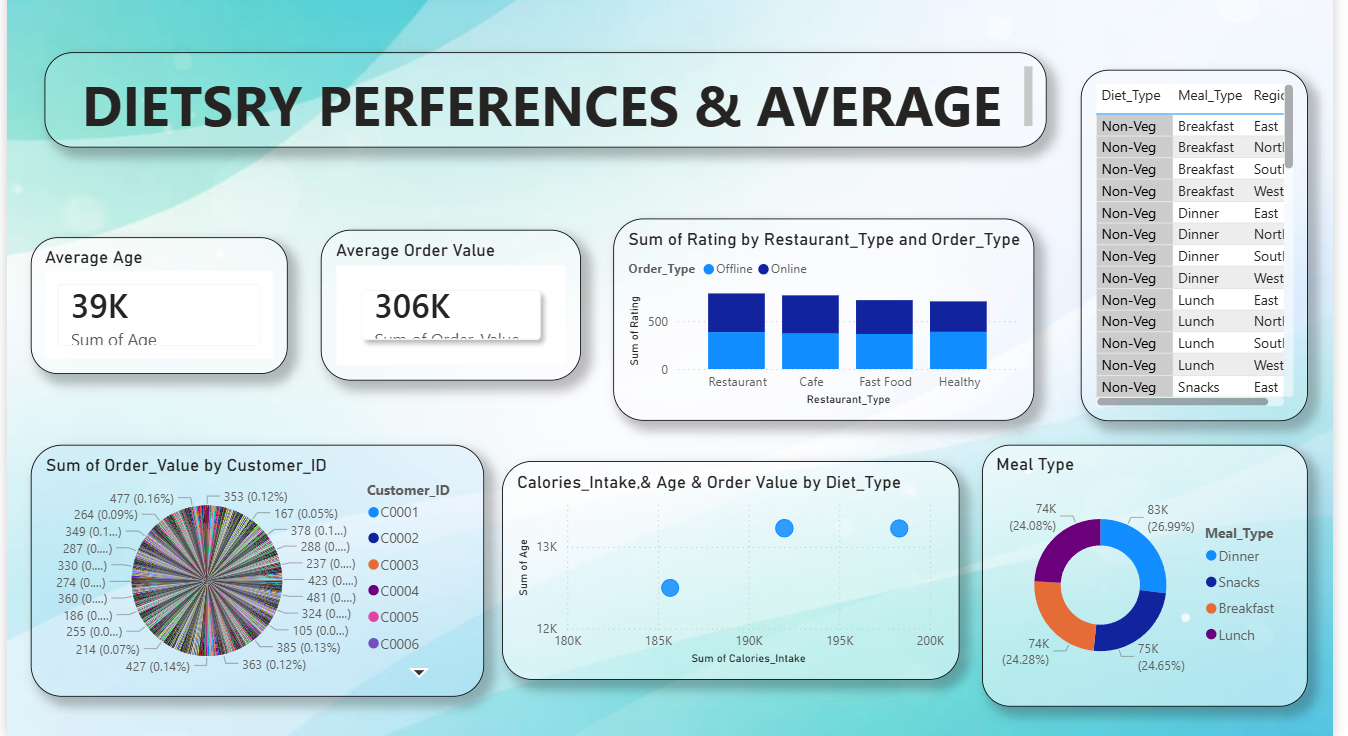

This screenshot's page, from the dashboard's own definition file:
{"tool":"powerbi","page":{"name":"MILESTONE 1","canvas":[1280,720],"ordinal":0},"visuals":[{"type":"cardVisual","title":"Average Age","fields":{"Data":["Sum(Dietary_Data.Age)"]},"box":[23.3,237.4,248.4,131.7],"z":0},{"type":"cardVisual","title":"Average Order Value","fields":{"Data":["Sum(Dietary_Data.Order_Value)"]},"box":[303.3,230.5,251.1,145.5],"z":1000},{"type":"pieChart","fields":{"Series":["Dietary_Data.Customer_ID"],"Y":["Sum(Dietary_Data.Order_Value)"]},"box":[23.3,437.7,437.7,242.9],"z":2000},{"type":"donutChart","title":" Meal Type","fields":{"Category":["Dietary_Data.Meal_Type"],"Y":["Sum(Dietary_Data.Order_Value)"]},"box":[941.3,437.7,314.2,252.5],"z":3000},{"type":"scatterChart","title":" Calories_Intake,& Age & Order Value by Diet_Type","fields":{"Category":["Dietary_Data.Diet_Type"],"X":["Sum(Dietary_Data.Calories_Intake)"],"Y":["Sum(Dietary_Data.Age)"],"Size":["Sum(Dietary_Data.Order_Value)"]},"box":[477.5,454.2,441.9,211.3],"z":4000},{"type":"tableEx","fields":{"Values":["Dietary_Data.Diet_Type","Dietary_Data.Meal_Type","Dietary_Data.Region"]},"box":[1036,75.5,219.6,338.9],"z":5000},{"type":"columnChart","fields":{"Category":["Dietary_Data.Restaurant_Type"],"Y":["Sum(Dietary_Data.Rating)"],"Series":["Dietary_Data.Order_Type"]},"box":[584.6,219.6,406.2,194.9],"z":6000},{"type":"textbox","box":[38.4,75.5,967.4,91.9],"z":7000}]}

Visuals, with their boxes on the page's 1280x720 design canvas (x1, y1, x2, y2). These are canvas units, not pixel positions in the 1348x736 screenshot, which may show the page scaled, cropped or inside an application window:
"Average Age" cardVisual: (x1=23, y1=237, x2=272, y2=369)
"Average Order Value" cardVisual: (x1=303, y1=230, x2=554, y2=376)
pieChart - Dietary_Data.Customer_ID x Sum(Dietary_Data.Order_Value): (x1=23, y1=438, x2=461, y2=681)
" Meal Type" donutChart: (x1=941, y1=438, x2=1256, y2=690)
" Calories_Intake,& Age & Order Value by Diet_Type" scatterChart: (x1=478, y1=454, x2=919, y2=666)
tableEx - Dietary_Data.Diet_Type x Dietary_Data.Meal_Type: (x1=1036, y1=76, x2=1256, y2=414)
columnChart - Dietary_Data.Restaurant_Type x Sum(Dietary_Data.Rating): (x1=585, y1=220, x2=991, y2=414)
textbox: (x1=38, y1=76, x2=1006, y2=167)
